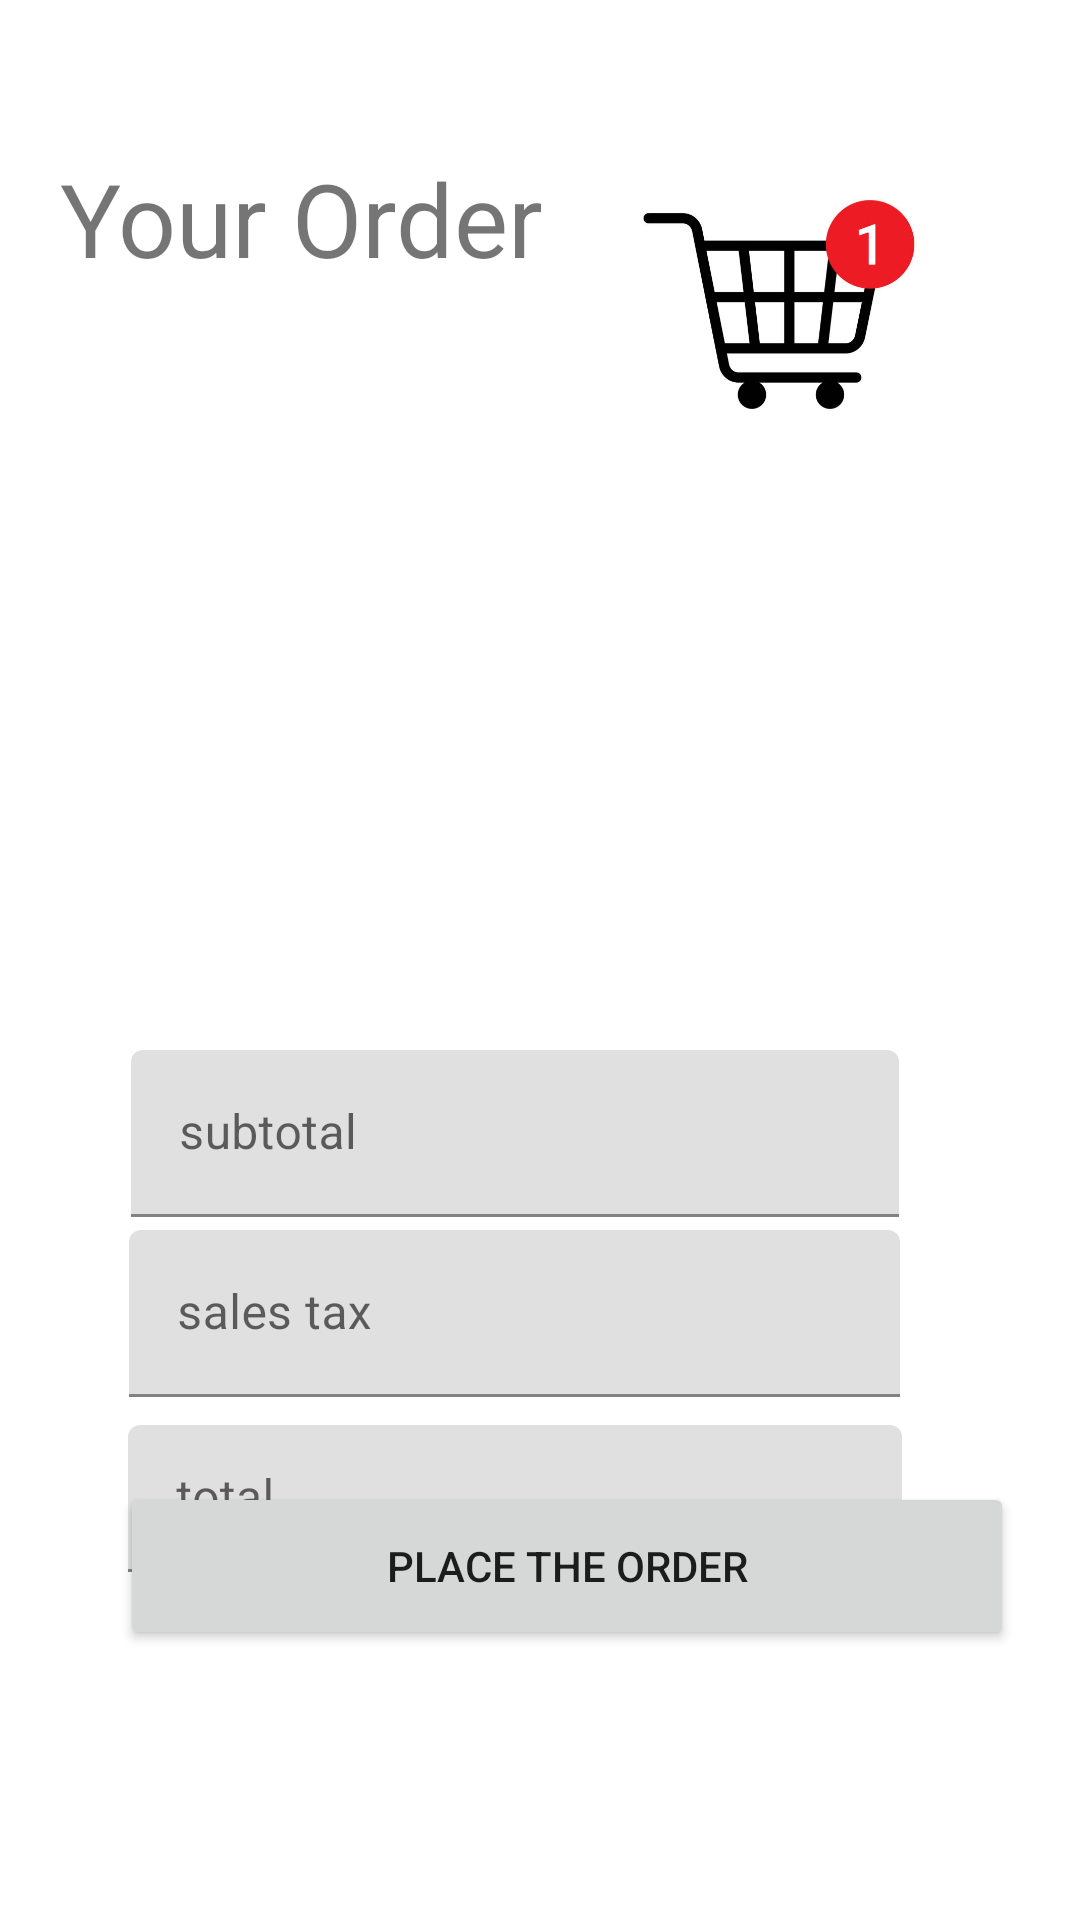

Icon bounding boxes for this 1080x1920 phone screenshot, format (x1, y1, x2, y2):
shoppingcart: (643, 200, 915, 409)
